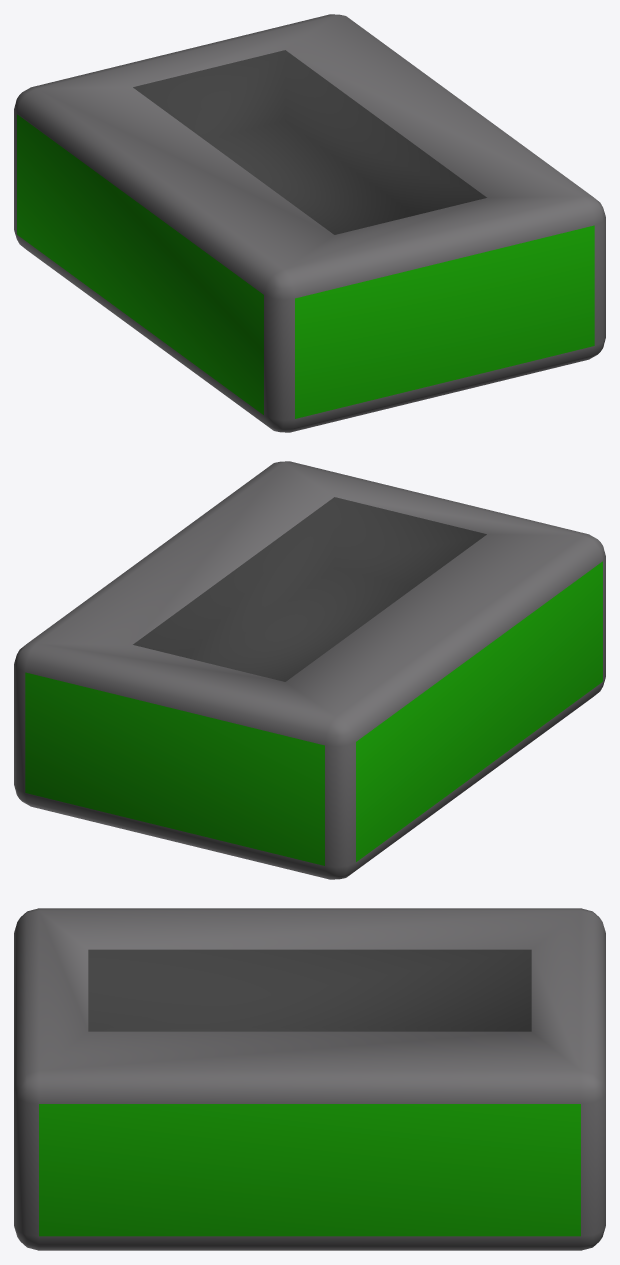
Rendered from ctxanh.fbx.
The picture shows the model from 3 angles, top to bottom: view 1: azimuth 30°, elevation 25°; view 2: azimuth 150°, elevation 25°; view 3: azimuth 270°, elevation 25°; orthographic projection. The views are drawn at different scales.
Parts seen in each view (by area): view 1: Cube.001; view 2: Cube.001; view 3: Cube.001.
Part boxes in pixels (x1,y1,x2,y2): Cube.001: (14,14,605,432); Cube.001: (14,461,605,879); Cube.001: (14,908,605,1250).
Bounding box in the file's own units: 200 × 91.27 × 276.
